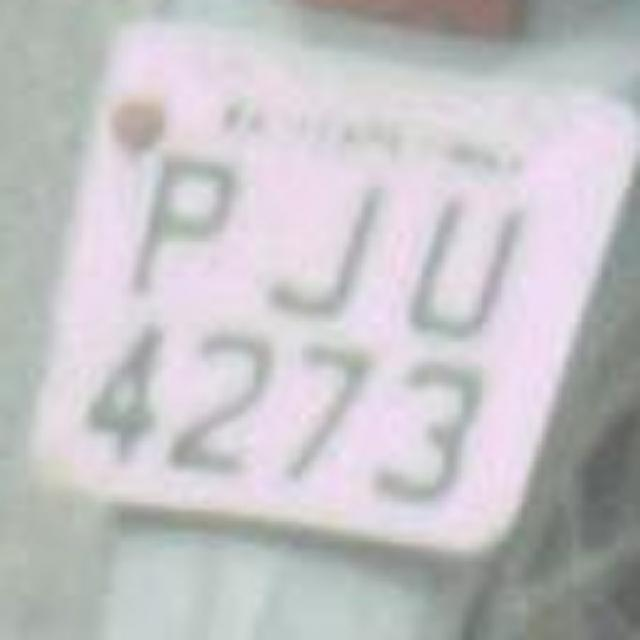2: (148, 312, 300, 496)
3: (340, 324, 505, 524)
4: (60, 292, 188, 488)
7: (256, 324, 389, 504)
J: (252, 148, 396, 332)
P: (120, 140, 240, 320)
U: (388, 155, 532, 360)
